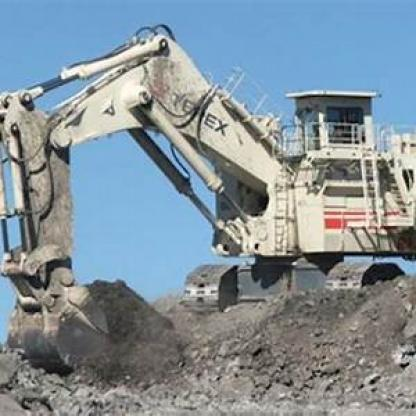excavator: (0, 28, 415, 377)
